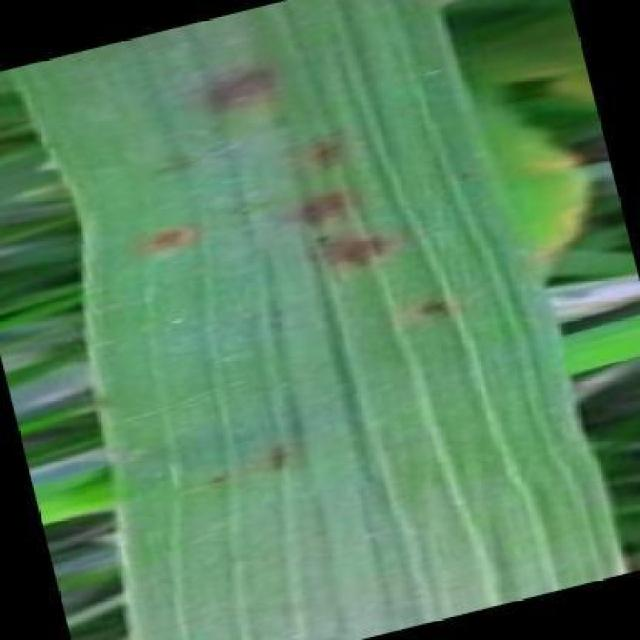Leaf_Blast: (172, 44, 292, 128), (293, 210, 409, 284), (266, 172, 357, 240), (134, 211, 200, 267), (295, 121, 357, 179), (402, 282, 458, 330), (143, 144, 202, 188), (254, 432, 300, 480), (193, 460, 235, 495), (450, 160, 482, 188)
